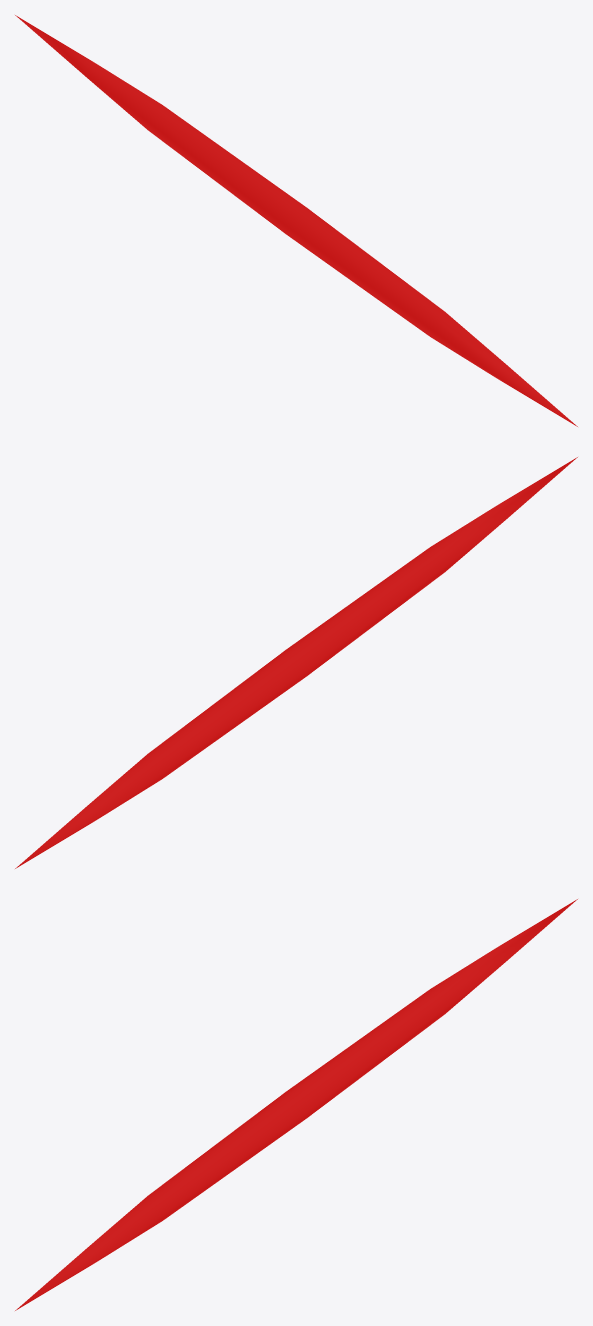
The model's file is LaserBlast.FBX.
3 renders of one model, top to bottom at view 1: azimuth 30°, elevation 25°; view 2: azimuth 150°, elevation 25°; view 3: azimuth 330°, elevation 25°, orthographic.
Visible parts, largest first — view 1: Sphere01; view 2: Sphere01; view 3: Sphere01.
Part boxes in pixels (bbox=[...]): Sphere01: bbox=[15, 15, 577, 426]; Sphere01: bbox=[15, 457, 577, 868]; Sphere01: bbox=[15, 899, 577, 1310].
Size of the model in its own units: 6 by 6 by 200.
